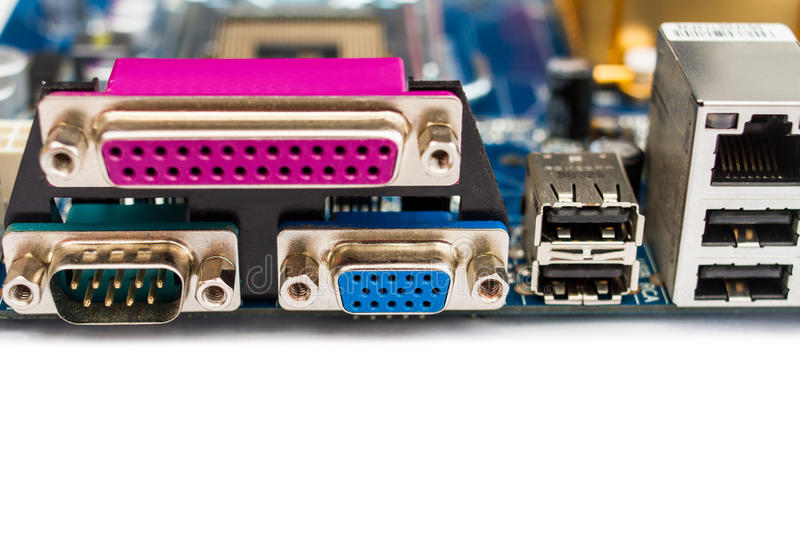Ethernet: (701, 111, 800, 193)
USB: (691, 204, 800, 254), (688, 260, 795, 301), (540, 207, 638, 251), (536, 266, 638, 305)
VGA: (321, 245, 468, 318)
